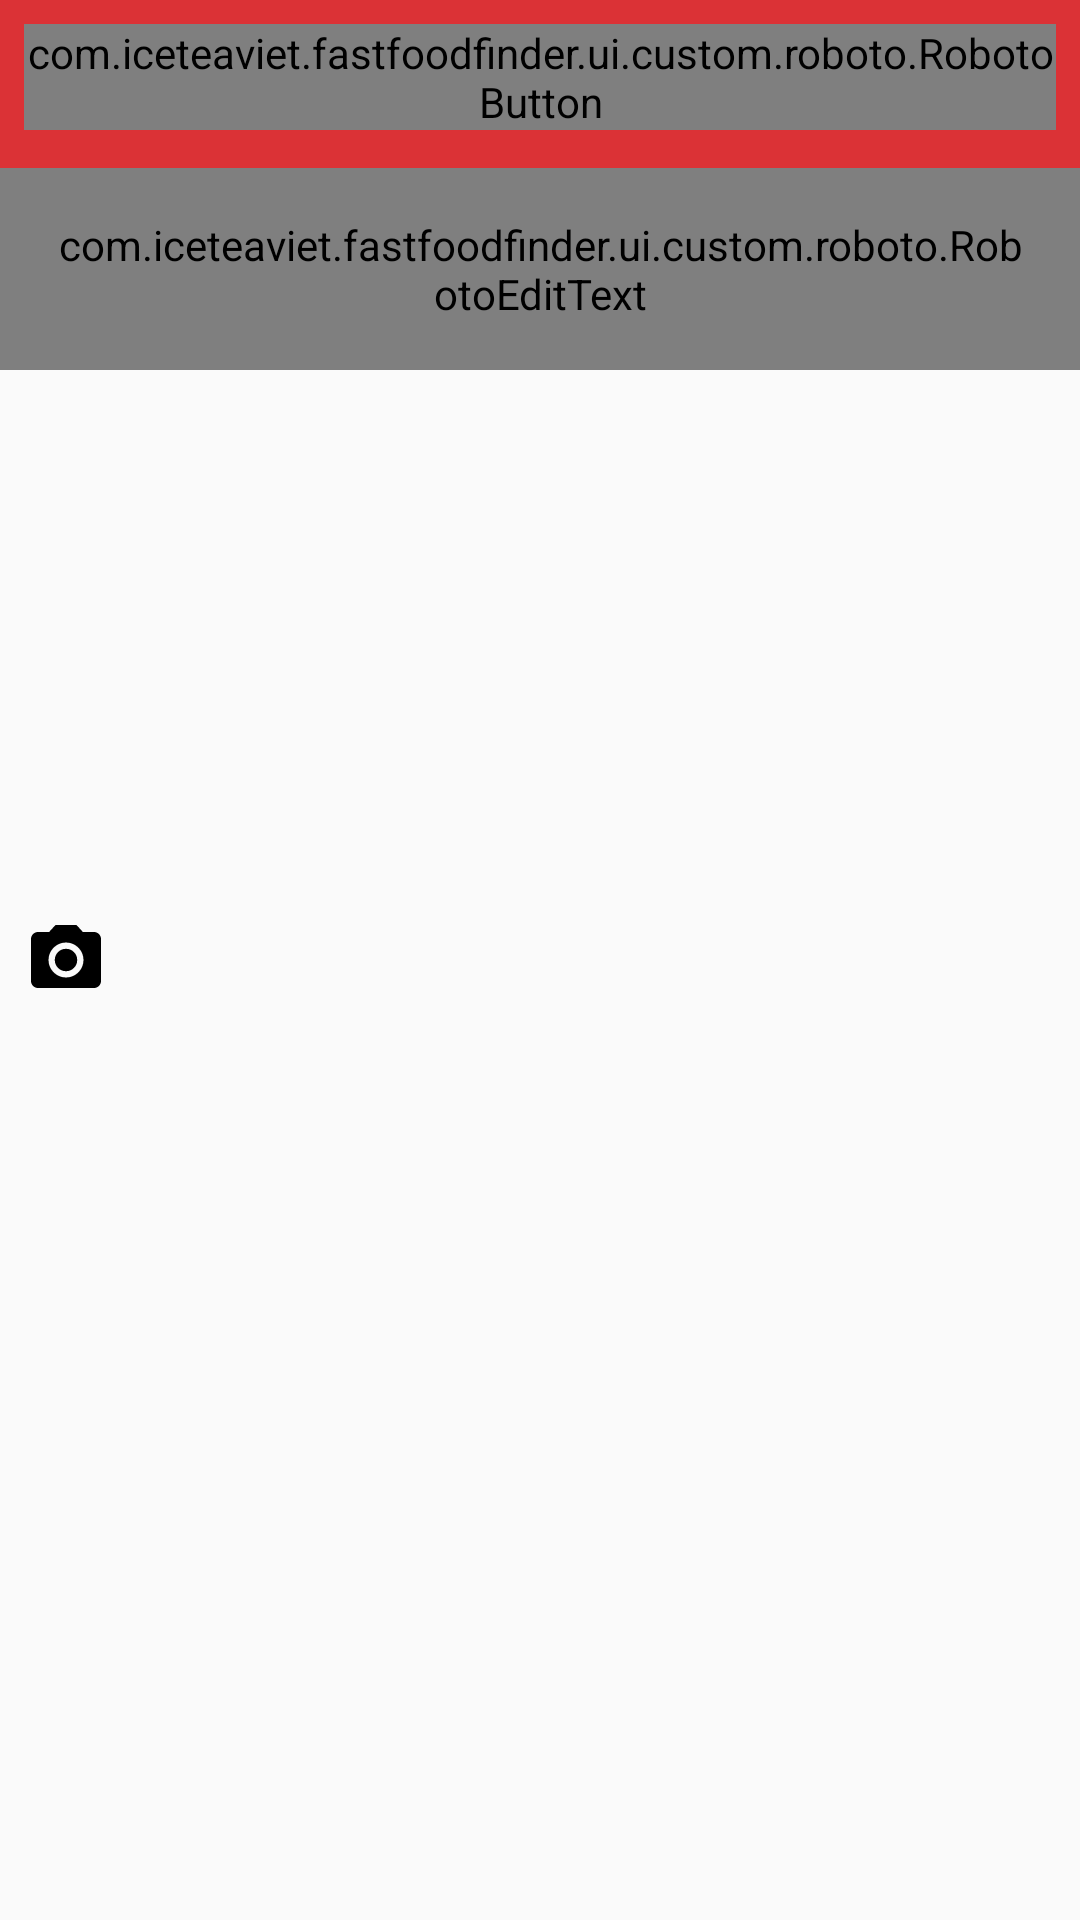

Screen size 1080px x 1920px. Icon name, then its center in pixels as point (x, y):
all camera: point (66, 956)
